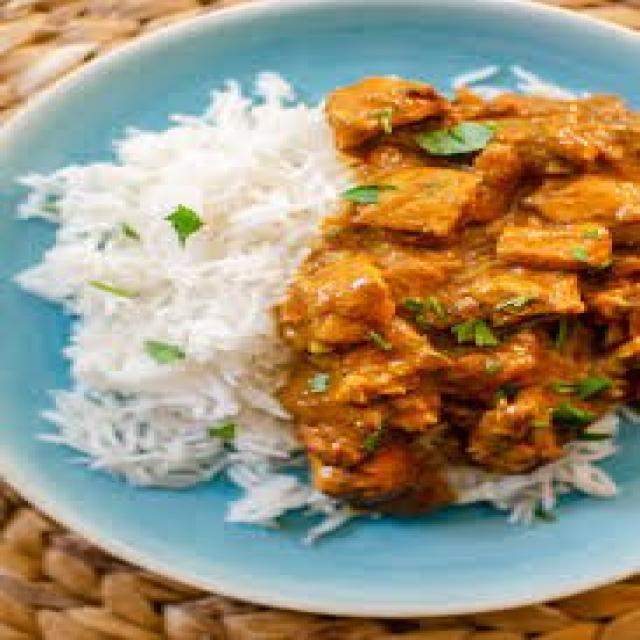Butter Chicken: (290, 59, 640, 509)
